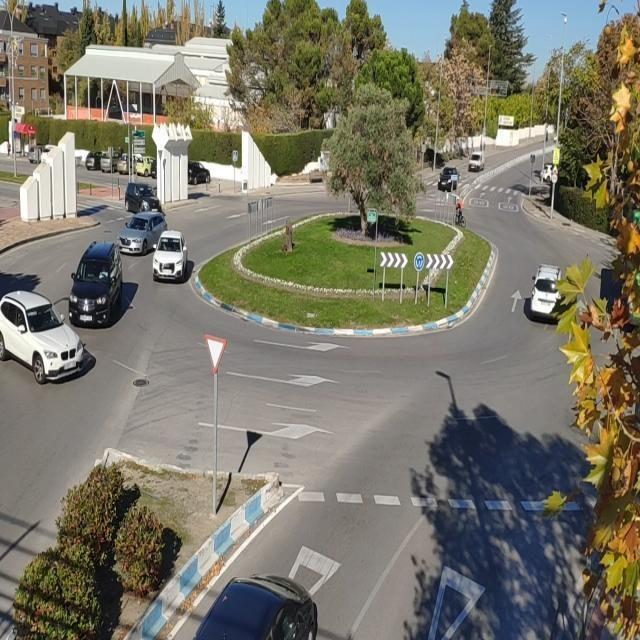Car: (0, 290, 88, 385), (115, 210, 172, 253), (151, 231, 188, 283), (529, 266, 561, 319), (436, 167, 461, 191)
Van: (67, 240, 121, 322), (468, 150, 485, 172)
